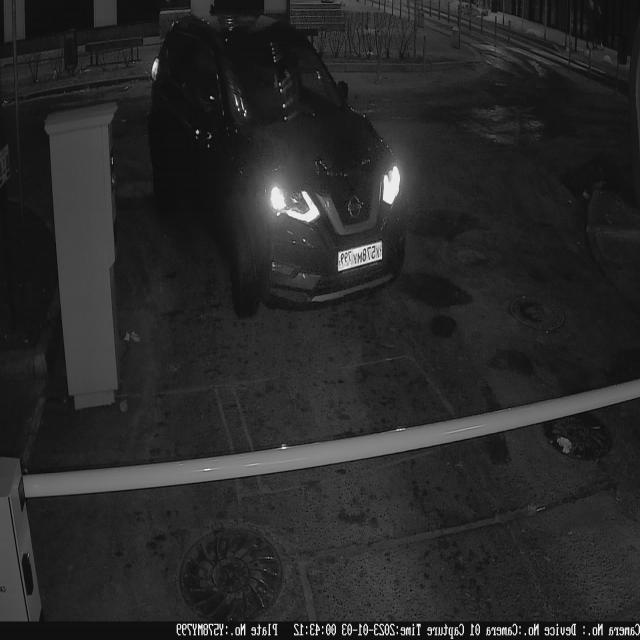car-plate-numbers: (335, 235, 391, 279)
